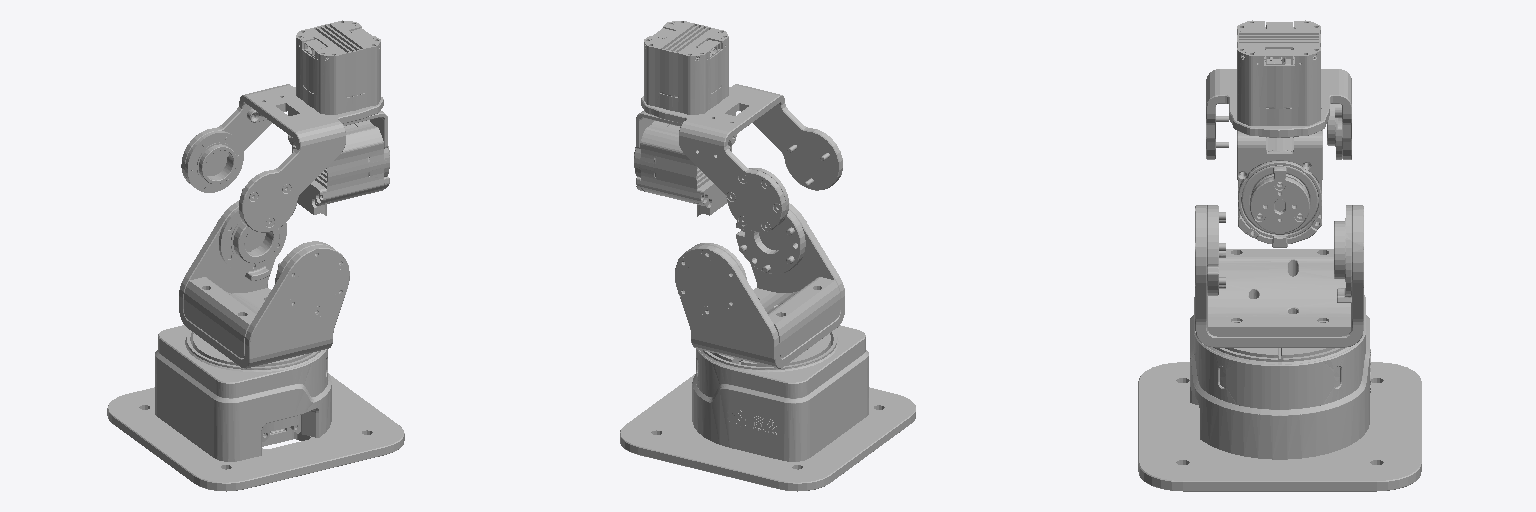
The robot description file, URDF, robot "Panthera-HT_description":
<?xml version="1.0" encoding="utf-8"?>
 <!-- This URDF was automatically created by SolidWorks to URDF Exporter! Originally created by Stephen Brawner (brawner@gmail.com) 
      Commit Version: 1.6.0-4-g7f85cfe  Build Version: 1.6.7995.38578
      For more information, please see http://wiki.ros.org/sw_urdf_exporter -->
 <robot name="Panthera-HT_description">
  <mujoco>
    <compiler meshdir="../meshes/" balanceinertia="true" discardvisual="false" />
  </mujoco>

   <link name="base_link">
     <inertial>
       <origin xyz="5.789e-05 -0.00015938 0.02298649" rpy="0 0 0" />
       <mass value="0.62922454" />
       <inertia ixx="0.00061305" ixy="-1.32e-06" ixz="1.69e-06" iyy="0.00063876" iyz="-2.1e-07" izz="0.0007565" />
     </inertial>
     <visual>
       <origin xyz="0 0 0" rpy="0 0 0" />
       <geometry>
         <mesh filename="package://Panthera-HT_description/meshes/base_link.STL" />
       </geometry>
       <material name="">
         <color rgba="0.752941176470588 0.752941176470588 0.752941176470588 1" />
       </material>
     </visual>
     <collision>
       <origin xyz="0 0 0" rpy="0 0 0" />
       <geometry>
         <mesh filename="package://Panthera-HT_description/meshes/base_link.STL" />
       </geometry>
     </collision>
   </link>
   <link name="link1">
     <inertial>
       <origin xyz="0.00278873 -0.00094387 0.02491842" rpy="0 0 0" />
       <mass value="0.28101551" />
       <inertia ixx="0.00039386" ixy="3.75e-06" ixz="-3.733e-05" iyy="0.0002136" iyz="7.17e-06" izz="0.00037066" />
     </inertial>
     <visual>
       <origin xyz="0 0 0" rpy="0 0 0" />
       <geometry>
         <mesh filename="package://Panthera-HT_description/meshes/link1.STL" />
       </geometry>
       <material name="">
         <color rgba="0.752941176470588 0.752941176470588 0.752941176470588 1" />
       </material>
     </visual>
     <collision>
       <origin xyz="0 0 0" rpy="0 0 0" />
       <geometry>
         <mesh filename="package://Panthera-HT_description/meshes/link1.STL" />
       </geometry>
     </collision>
   </link>
   <joint name="joint1" type="revolute">
     <origin xyz="0 0 0.0584" rpy="0 0 0" />
     <parent link="base_link" />
     <child link="link1" />
     <axis xyz="0 0 1" />
     <limit lower="-2.4" upper="2.4" effort="21" velocity="4.2" />
   </joint>
   <link name="link2">
     <inertial>
       <origin xyz="-0.12936212 -0.00213339 7.183e-05" rpy="0 0 0" />
       <mass value="1.5165092" />
       <inertia ixx="0.00044711" ixy="3.071e-05" ixz="-5.119e-05" iyy="0.02261049" iyz="3.01e-06" izz="0.02272105" />
     </inertial>
     <visual>
       <origin xyz="0 0 0" rpy="0 0 0" />
       <geometry>
         <mesh filename="package://Panthera-HT_description/meshes/link2.STL" />
       </geometry>
       <material name="">
         <color rgba="0.752941176470588 0.752941176470588 0.752941176470588 1" />
       </material>
     </visual>
     <collision>
       <origin xyz="0 0 0" rpy="0 0 0" />
       <geometry>
         <mesh filename="package://Panthera-HT_description/meshes/link2.STL" />
       </geometry>
     </collision>
   </link>
   <joint name="joint2" type="revolute">
     <origin xyz="0.018199 0 0.053" rpy="0 0 0" />
     <parent link="link1" />
     <child link="link2" />
     <axis xyz="0 1 0" />
     <limit lower="0.0" upper="3.2" effort="36" velocity="5" />
   </joint>
   <link name="link3">
     <inertial>
       <origin xyz="0.16343103 -0.00164646 0.05337427" rpy="0 0 0" />
       <mass value="0.66917784" />
       <inertia ixx="0.00061339" ixy="-1.439e-05" ixz="-0.00070321" iyy="0.00538615" iyz="-1.404e-05" izz="0.00532976" />
     </inertial>
     <visual>
       <origin xyz="0 0 0" rpy="0 0 0" />
       <geometry>
         <mesh filename="package://Panthera-HT_description/meshes/link3.STL" />
       </geometry>
       <material name="">
         <color rgba="0.752941176470588 0.752941176470588 0.752941176470588 1" />
       </material>
     </visual>
     <collision>
       <origin xyz="0 0 0" rpy="0 0 0" />
       <geometry>
         <mesh filename="package://Panthera-HT_description/meshes/link3.STL" />
       </geometry>
     </collision>
   </link>
   <joint name="joint3" type="revolute">
     <origin xyz="-0.26 0 0" rpy="0 0 0" />
     <parent link="link2" />
     <child link="link3" />
     <axis xyz="0 -1 0" />
     <limit lower="0.0" upper="4.0" effort="36" velocity="5" />
   </joint>
   <link name="link4">
     <inertial>
       <origin xyz="0.05240131 -0.00055249 0.04094177" rpy="0 0 0" />
       <mass value="0.30780516" />
       <inertia ixx="0.00025787" ixy="-1.011e-05" ixz="-0.00017337" iyy="0.00039454" iyz="-8.09e-06" izz="0.00035094" />
     </inertial>
     <visual>
       <origin xyz="0 0 0" rpy="0 0 0" />
       <geometry>
         <mesh filename="package://Panthera-HT_description/meshes/link4.STL" />
       </geometry>
       <material name="">
         <color rgba="0.752941176470588 0.752941176470588 0.752941176470588 1" />
       </material>
     </visual>
     <collision>
       <origin xyz="0 0 0" rpy="0 0 0" />
       <geometry>
         <mesh filename="package://Panthera-HT_description/meshes/link4.STL" />
       </geometry>
     </collision>
   </link>
   <joint name="joint4" type="revolute">
     <origin xyz="0.23 0 0.06" rpy="0 0 0" />
     <parent link="link3" />
     <child link="link4" />
     <axis xyz="0 -1 0" />
     <limit lower="-1.6" upper="1.6" effort="21" velocity="4.2" />
   </joint>
   <link name="link5">
     <inertial>
       <origin xyz="0.00303007 8.509e-05 -0.03624079" rpy="0 0 0" />
       <mass value="0.23711139" />
       <inertia ixx="4.815e-05" ixy="-3e-08" ixz="-1.5e-07" iyy="5.773e-05" iyz="-1e-08" izz="3.359e-05" />
     </inertial>
     <visual>
       <origin xyz="0 0 0" rpy="0 0 0" />
       <geometry>
         <mesh filename="package://Panthera-HT_description/meshes/link5.STL" />
       </geometry>
       <material name="">
         <color rgba="0.752941176470588 0.752941176470588 0.752941176470588 1" />
       </material>
     </visual>
     <collision>
       <origin xyz="0 0 0" rpy="0 0 0" />
       <geometry>
         <mesh filename="package://Panthera-HT_description/meshes/link5.STL" />
       </geometry>
     </collision>
   </link>
   <joint name="joint5" type="revolute">
     <origin xyz="0.07 0 0.036319" rpy="0 0 0" />
     <parent link="link4" />
     <child link="link5" />
     <axis xyz="0 0 -1" />
     <limit lower="-1.7" upper="1.7" effort="10" velocity="3.7" />
   </joint>
   <link name="link6">
     <inertial>
       <origin xyz="0.06704625 0.00051731 1.674e-05" rpy="0 0 0" />
       <mass value="0.38" />
       <inertia ixx="0.00107368" ixy="-1.25e-05" ixz="3e-07" iyy="0.00068998" iyz="2.517e-05" izz="0.00167551" />
     </inertial>
     <visual>
       <origin xyz="0 0 0" rpy="0 0 0" />
       <geometry>
         <mesh filename="package://Panthera-HT_description/meshes/link6.STL" />
       </geometry>
       <material name="">
         <color rgba="0.752941176470588 0.752941176470588 0.752941176470588 1" />
       </material>
     </visual>
     <collision>
       <origin xyz="0 0 0" rpy="0 0 0" />
       <geometry>
         <mesh filename="package://Panthera-HT_description/meshes/link6.STL" />
       </geometry>
     </collision>
   </link>
   <joint name="joint6" type="revolute">
     <origin xyz="0.02345 0 -0.039" rpy="0 0 0" />
     <parent link="link5" />
     <child link="link6" />
     <axis xyz="1 0 0" />
     <limit lower="-2.5" upper="2.5" effort="10" velocity="3.7" />
   </joint>
  <link name="tool_link"/>
  <joint name="tool_joint" type="fixed">
    <parent link="link6"/>
    <child link="tool_link"/>
    <origin xyz="0.165 0 0" rpy="0 0 0"/>
  </joint>
 </robot>

--- What the picture shows (computed from the rendered views, not written in the file) ---
The picture shows the robot from 3 angles, left to right: view 1: azimuth 30°, elevation 25°; view 2: azimuth 150°, elevation 25°; view 3: azimuth 270°, elevation 25°; orthographic projection.
Model Panthera-HT_description with 8 links and 7 joints (6 revolute, 1 fixed), rooted at base_link, posed every joint at zero.
Visible links, largest first — view 1: base_link, link4, link1, link5; view 2: base_link, link4, link1, link5; view 3: base_link, link1, link4, link5, link6.
Boxes of the visible links, bbox=[...] form: base_link: bbox=[107, 325, 404, 491]; link4: bbox=[181, 20, 383, 232]; link1: bbox=[179, 201, 349, 368]; link5: bbox=[288, 111, 389, 215]; base_link: bbox=[620, 325, 915, 491]; link4: bbox=[641, 21, 842, 232]; link1: bbox=[675, 203, 844, 368]; link5: bbox=[634, 111, 735, 216]; base_link: bbox=[1138, 295, 1421, 491]; link1: bbox=[1195, 205, 1363, 361]; link4: bbox=[1206, 20, 1351, 159]; link5: bbox=[1237, 130, 1322, 247]; link6: bbox=[1250, 167, 1309, 232].
Bounding box of the posed robot: 0.1601 × 0.146 × 0.2513 m (x, y, z).
Meshes: 7 distinct files referenced, 5 mesh visuals loaded (5 binary STL); not drawn: 2 (reference not matched to a file when rendering).
